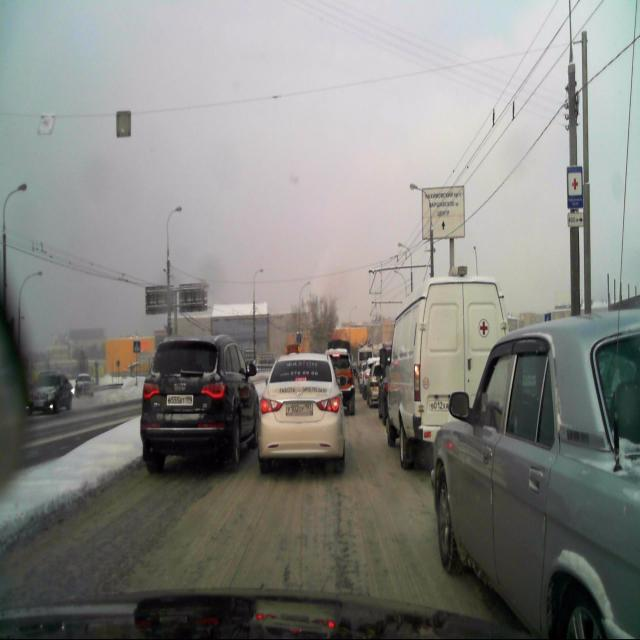road sign: (566, 165, 582, 204)
